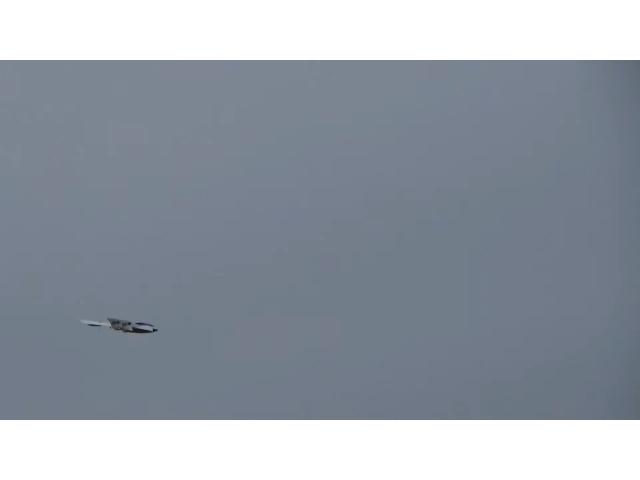Anti-Drone: (82, 318, 156, 334)
